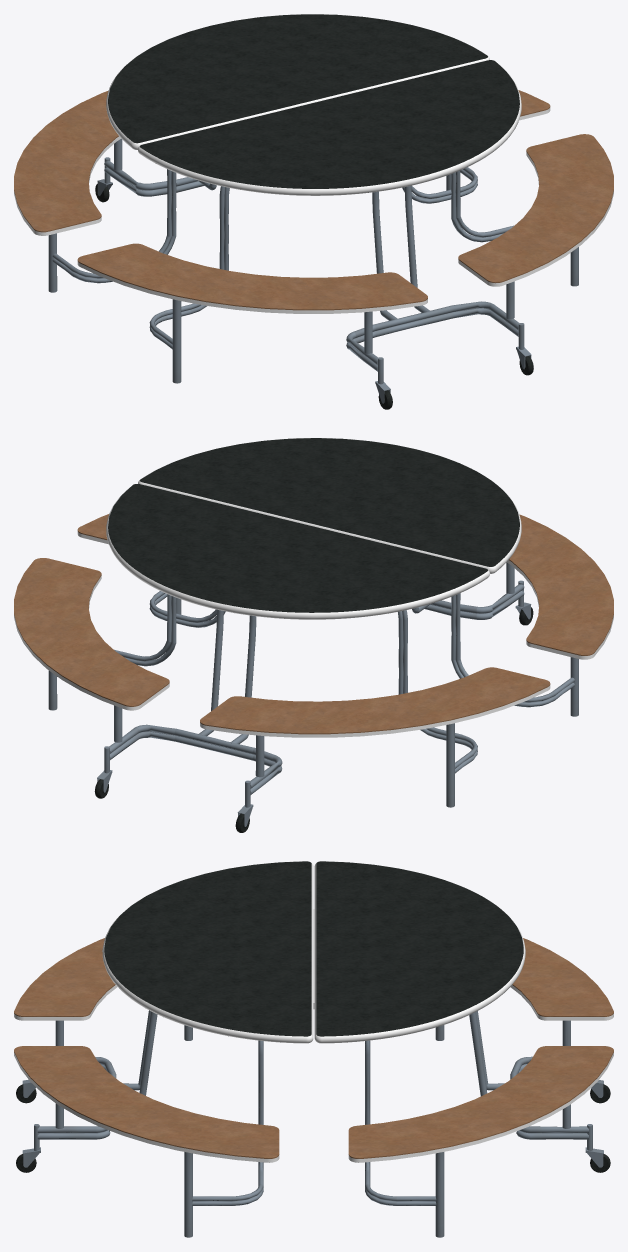
File: chair_outdoor.glb
3 views of the same model, one above another, from view 1: azimuth 30°, elevation 25°; view 2: azimuth 150°, elevation 25°; view 3: azimuth 270°, elevation 25° (orthographic).
Visible parts, largest first — view 1: Extrusion [44899], Extrusion [14609], Extrusion [6640], Sweep [14875], Extrusion [41122], Sweep [21771], stool sur stool sur [18176], stool sur stool sur [18108], Sweep [13620], stool sur stool sur [18175], Sweep [21278], stool sur stool sur [17954] (+2 smaller); view 2: Extrusion [44899], Extrusion [6640], Extrusion [14609], Sweep [13620], Extrusion [41122], Sweep [21278], stool sur stool sur [18108], stool sur stool sur [18176], Sweep [14875], stool sur stool sur [17954], Sweep [21771], stool sur stool sur [18175] (+2 smaller); view 3: Extrusion [44899], Extrusion [6640], Extrusion [14609], Extrusion [41122], Sweep [14875], Sweep [13620], stool sur stool sur [17954], stool sur stool sur [18175], Sweep [21278], Sweep [21771], Sweep [21344], Sweep [21837].
Part boxes in pixels (<box>): Extrusion [44899]: <box>14,90,613,310</box>; Extrusion [14609]: <box>140,60,519,192</box>; Extrusion [6640]: <box>108,14,487,143</box>; Sweep [14875]: <box>138,63,521,195</box>; Extrusion [41122]: <box>14,107,613,313</box>; Sweep [21771]: <box>346,301,519,371</box>; stool sur stool sur [18176]: <box>149,186,229,383</box>; stool sur stool sur [18108]: <box>48,169,176,292</box>; Sweep [13620]: <box>106,14,489,149</box>; stool sur stool sur [18175]: <box>451,170,578,286</box>; Sweep [21278]: <box>104,161,204,196</box>; stool sur stool sur [17954]: <box>402,167,477,203</box>; Extrusion [44899]: <box>14,514,613,734</box>; Extrusion [6640]: <box>108,484,487,612</box>; Extrusion [14609]: <box>139,438,519,566</box>; Sweep [13620]: <box>106,486,489,619</box>; Extrusion [41122]: <box>14,531,613,737</box>; Sweep [21278]: <box>109,724,282,794</box>; stool sur stool sur [18108]: <box>398,610,477,807</box>; stool sur stool sur [18176]: <box>451,593,578,716</box>; Sweep [14875]: <box>138,438,521,573</box>; stool sur stool sur [17954]: <box>48,594,176,710</box>; Sweep [21771]: <box>424,584,524,619</box>; stool sur stool sur [18175]: <box>149,591,225,627</box>; Extrusion [44899]: <box>14,938,613,1158</box>; Extrusion [6640]: <box>316,861,523,1036</box>; Extrusion [14609]: <box>104,861,311,1036</box>; Extrusion [41122]: <box>14,985,613,1162</box>; Sweep [14875]: <box>102,861,313,1043</box>; Sweep [13620]: <box>314,861,525,1043</box>; stool sur stool sur [17954]: <box>365,1040,444,1237</box>; stool sur stool sur [18175]: <box>184,1040,263,1237</box>; Sweep [21278]: <box>510,1056,588,1139</box>; Sweep [21771]: <box>37,1057,116,1139</box>; Sweep [21344]: <box>469,1012,487,1096</box>; Sweep [21837]: <box>139,1011,157,1095</box>.
Bounding box in the file's own units: 2.21 × 0.7647 × 2.2.
Materials: 5 (4 with a texture image).
